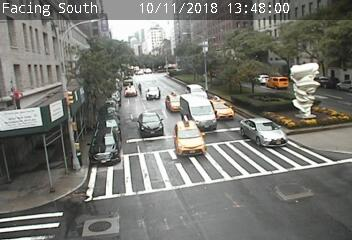car: (241, 117, 287, 148), (181, 94, 215, 131), (175, 121, 205, 158), (90, 128, 119, 164), (139, 112, 163, 137), (207, 98, 233, 119), (185, 84, 207, 102), (166, 95, 186, 113), (265, 76, 288, 89), (252, 74, 270, 86), (146, 87, 161, 100), (124, 85, 138, 97)
